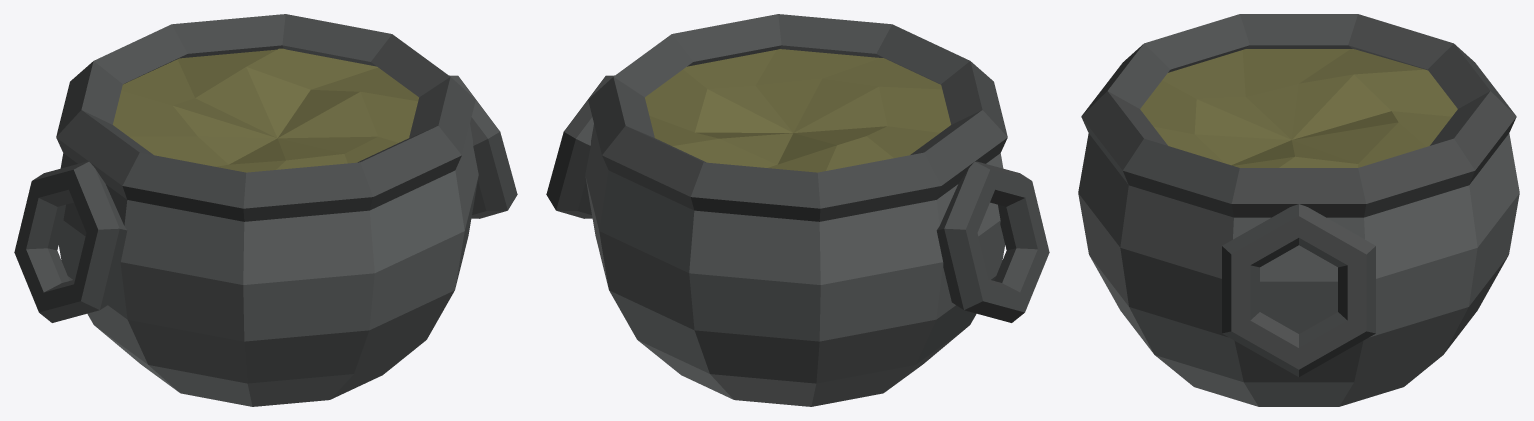
The model's file is Cauldron_2_Gray.fbx.
3 views of the same model, side by side, from view 1: azimuth 30°, elevation 25°; view 2: azimuth 150°, elevation 25°; view 3: azimuth 270°, elevation 25° (orthographic).
Parts seen in each view (by area): view 1: Cauldron_2_Gray_Part_1, Cauldron_2_Gray_Part_2, Cauldron_2_Gray_Part_3; view 2: Cauldron_2_Gray_Part_1, Cauldron_2_Gray_Part_2, Cauldron_2_Gray_Part_3; view 3: Cauldron_2_Gray_Part_1, Cauldron_2_Gray_Part_2, Cauldron_2_Gray_Part_3.
Part boxes in pixels (x1,y1,x2,y2): Cauldron_2_Gray_Part_1: (58,124,478,406); Cauldron_2_Gray_Part_2: (14,14,517,322); Cauldron_2_Gray_Part_3: (113,48,418,172); Cauldron_2_Gray_Part_1: (585,124,1005,406); Cauldron_2_Gray_Part_2: (546,14,1049,322); Cauldron_2_Gray_Part_3: (645,49,950,172); Cauldron_2_Gray_Part_1: (1078,133,1519,406); Cauldron_2_Gray_Part_2: (1081,14,1516,376); Cauldron_2_Gray_Part_3: (1140,49,1457,167).
Bounding box in the file's own units: 241 × 132 × 200.
